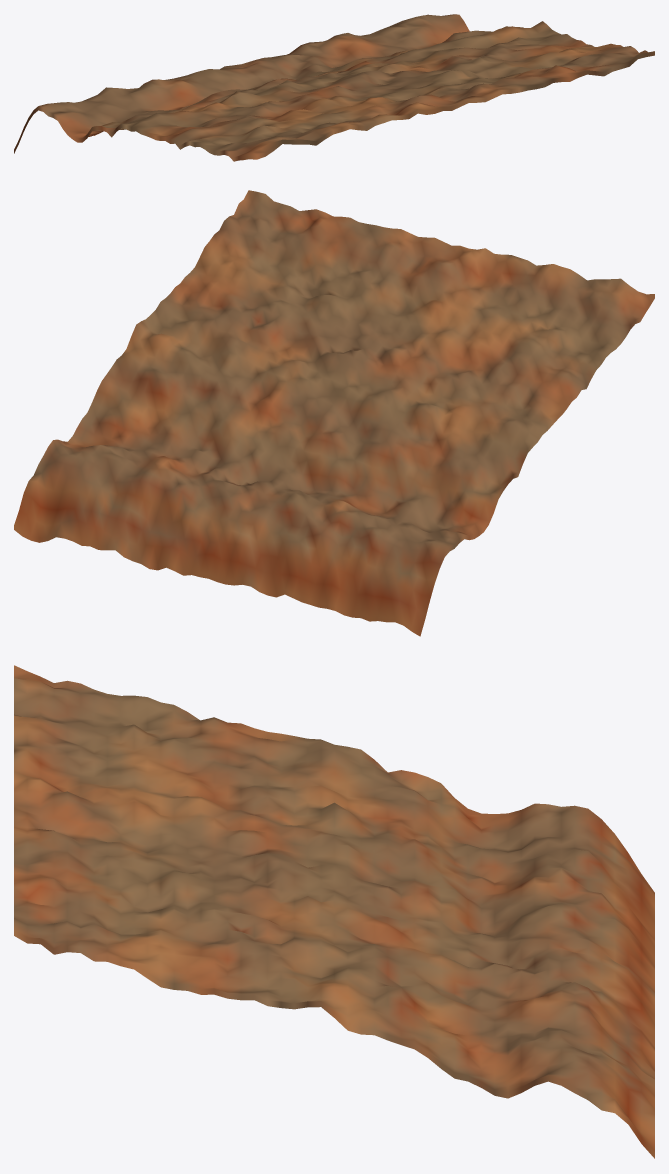
Rendered from terrain-155.glb.
3 views of the same model, one above another, from view 1: azimuth 30°, elevation 25°; view 2: azimuth 150°, elevation 25°; view 3: azimuth 270°, elevation 25° (orthographic). The views are drawn at different scales.
Parts seen in each view (by area): view 1: terrain-155; view 2: terrain-155; view 3: terrain-155.
Part boxes in pixels (<box>): terrain-155: <box>14,14,654,161</box>; terrain-155: <box>14,190,654,636</box>; terrain-155: <box>14,665,654,1158</box>.
Bounding box in the file's own units: 384 × 161 × 384.
